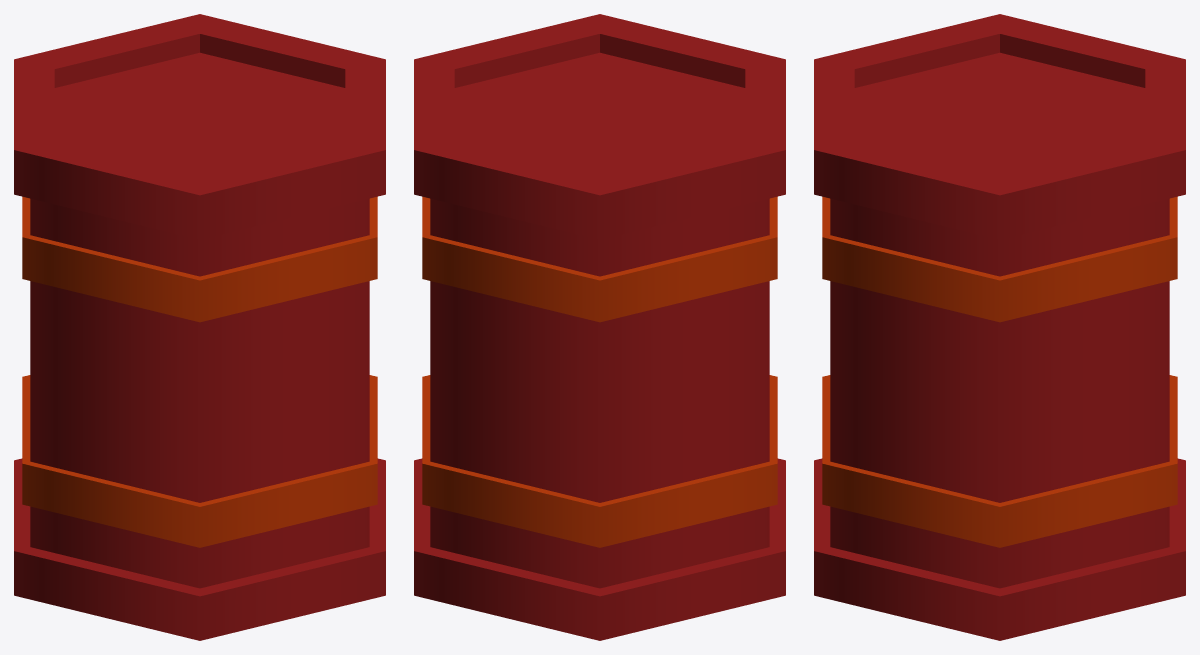
The model's file is Barrel1.FBX.
3 renders of one model, left to right at view 1: azimuth 30°, elevation 25°; view 2: azimuth 150°, elevation 25°; view 3: azimuth 270°, elevation 25°, orthographic.
Parts seen in each view (by area): view 1: Barrel1; view 2: Barrel1; view 3: Barrel1.
Part boxes in pixels (x1,y1,x2,y2): Barrel1: (14, 14, 385, 640); Barrel1: (414, 14, 785, 640); Barrel1: (814, 14, 1185, 640).
Bounding box in the file's own units: 13.8 × 15.8 × 11.95.
